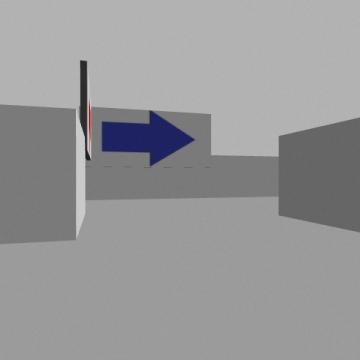blue_right: (102, 111, 194, 166)
